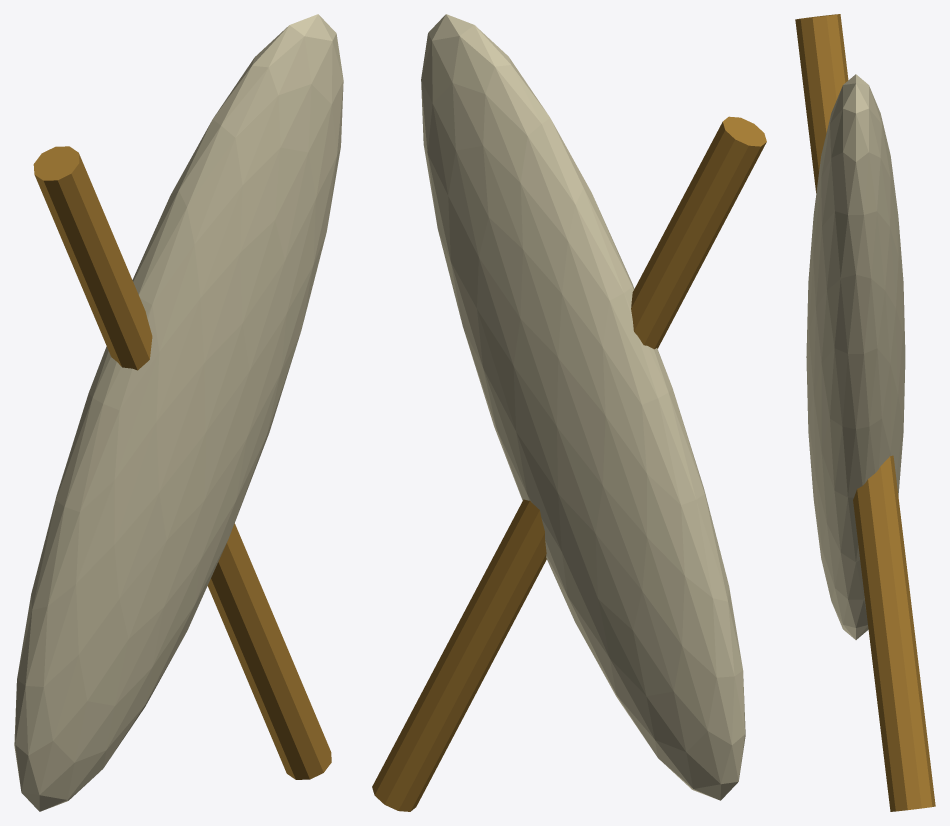
The model's file is Feather.glb.
3 views of the same model, side by side, from view 1: azimuth 30°, elevation 25°; view 2: azimuth 150°, elevation 25°; view 3: azimuth 270°, elevation 25° (orthographic). The views are drawn at different scales.
Visible parts, largest first — view 1: geometry_0; view 2: geometry_0; view 3: geometry_0.
Boxes of the visible parts, <box> form: geometry_0: <box>14,14,343,811</box>; geometry_0: <box>372,14,766,811</box>; geometry_0: <box>795,14,935,811</box>.
Bounding box in the file's own units: 0.1924 × 0.42 × 0.0738.
